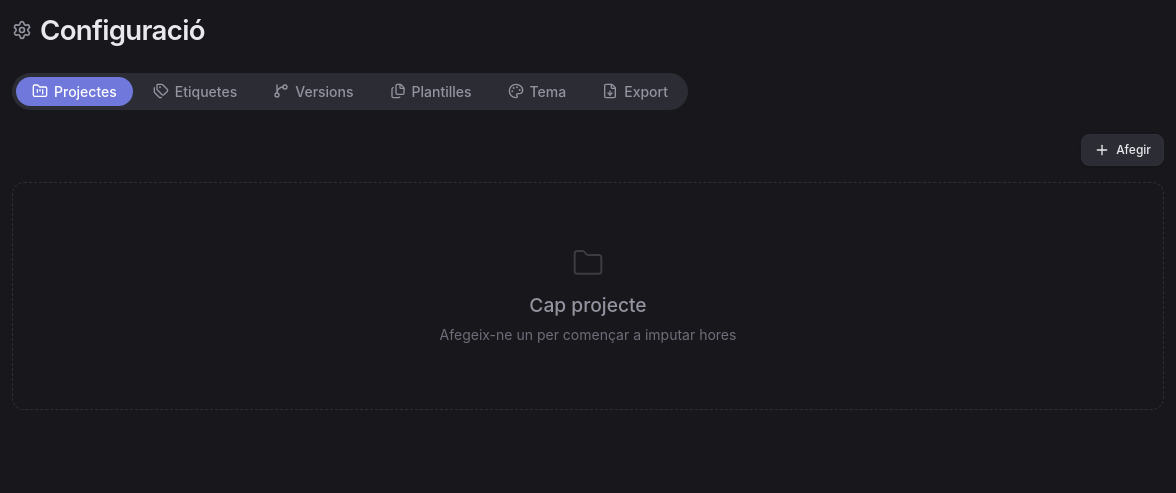
Test: ConfigPage › lists valuation templates inside configuració
Click the tab "Plantilles" at [430, 91], box [374,77,488,106]
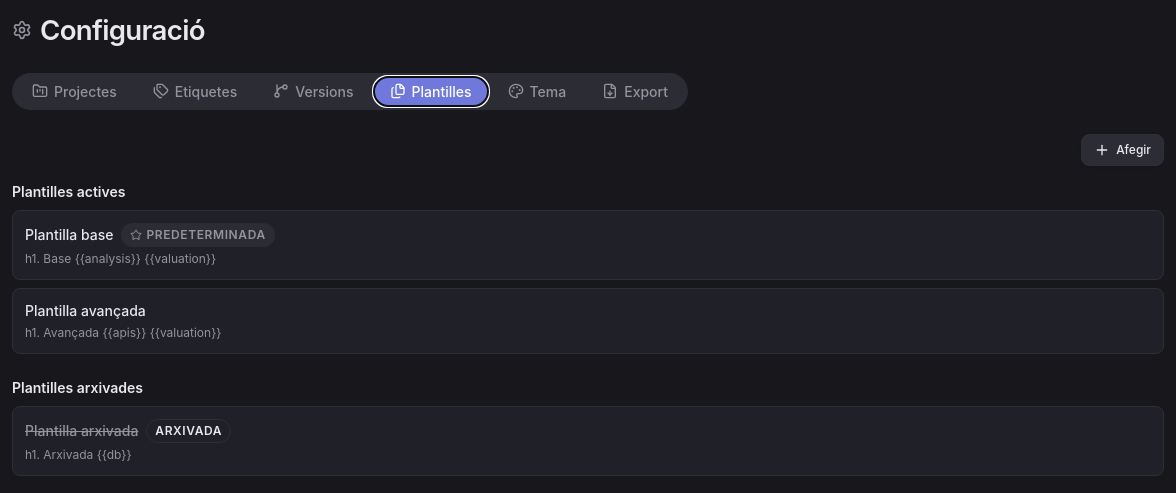
Now the text "Plantilla base" is shown, box [25,225,113,245]
Now the text "Plantilla avançada" is shown, box [25,301,146,321]
Now the text "Predeterminada" is shown, box [121,223,275,247]
